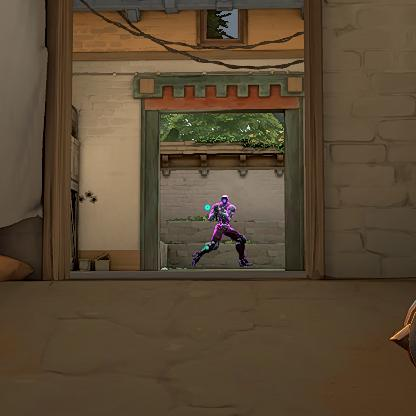enemyBody: (217, 204, 229, 226)
enemyHead: (222, 195, 227, 203)
